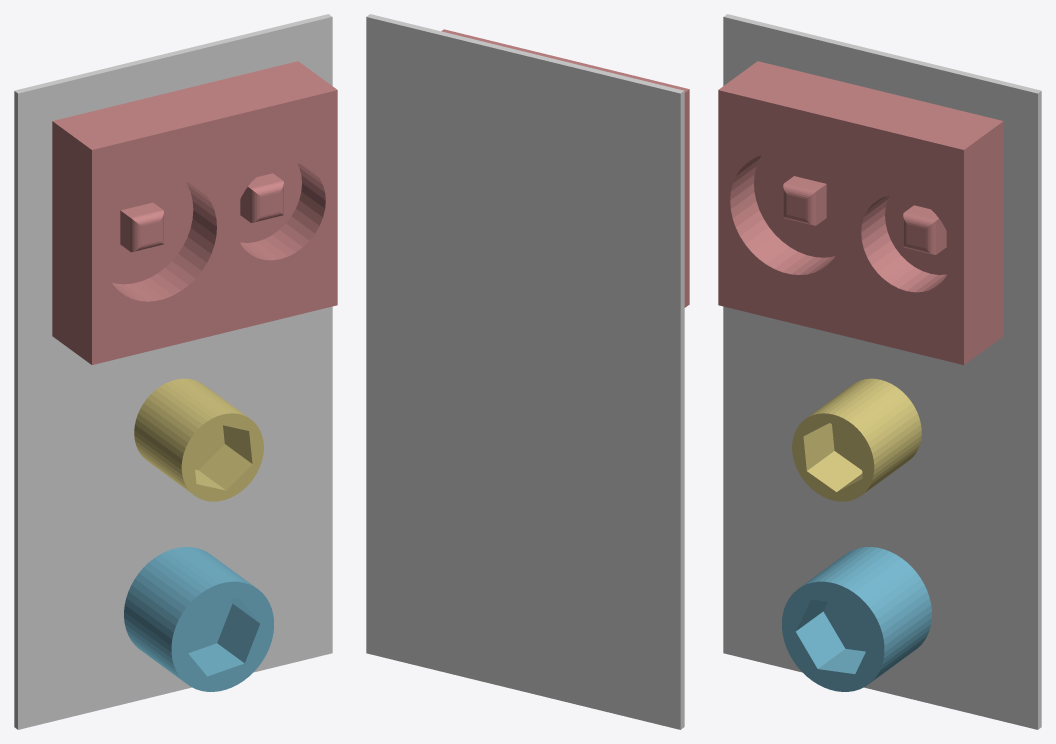
File: pickup_layout.glb
The picture shows the model from 3 angles, left to right: view 1: azimuth 30°, elevation 25°; view 2: azimuth 150°, elevation 25°; view 3: azimuth 330°, elevation 25°; orthographic projection.
Visible parts, largest first — view 1: world, 0.obj, 2.obj, 1.obj; view 2: world, 0.obj; view 3: world, 0.obj, 2.obj, 1.obj.
Part boxes in pixels (x1,y1,x2,y2): world: (14,14,332,729); 0.obj: (52,61,337,364); 2.obj: (124,547,273,691); 1.obj: (134,378,263,501); world: (366,14,684,729); 0.obj: (441,29,689,307); world: (723,14,1041,729); 0.obj: (718,61,1003,364); 2.obj: (782,547,931,691); 1.obj: (792,378,921,501).
Size of the model in its own units: 9.17 by 17.75 by 2.6.
